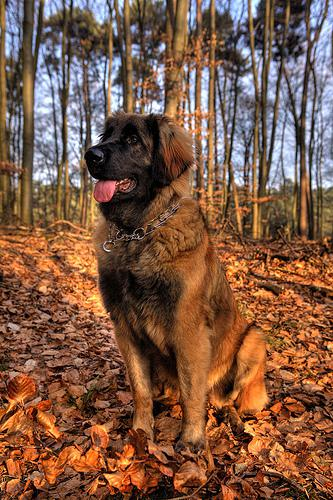dog-leonberger: (83, 110, 193, 201)
